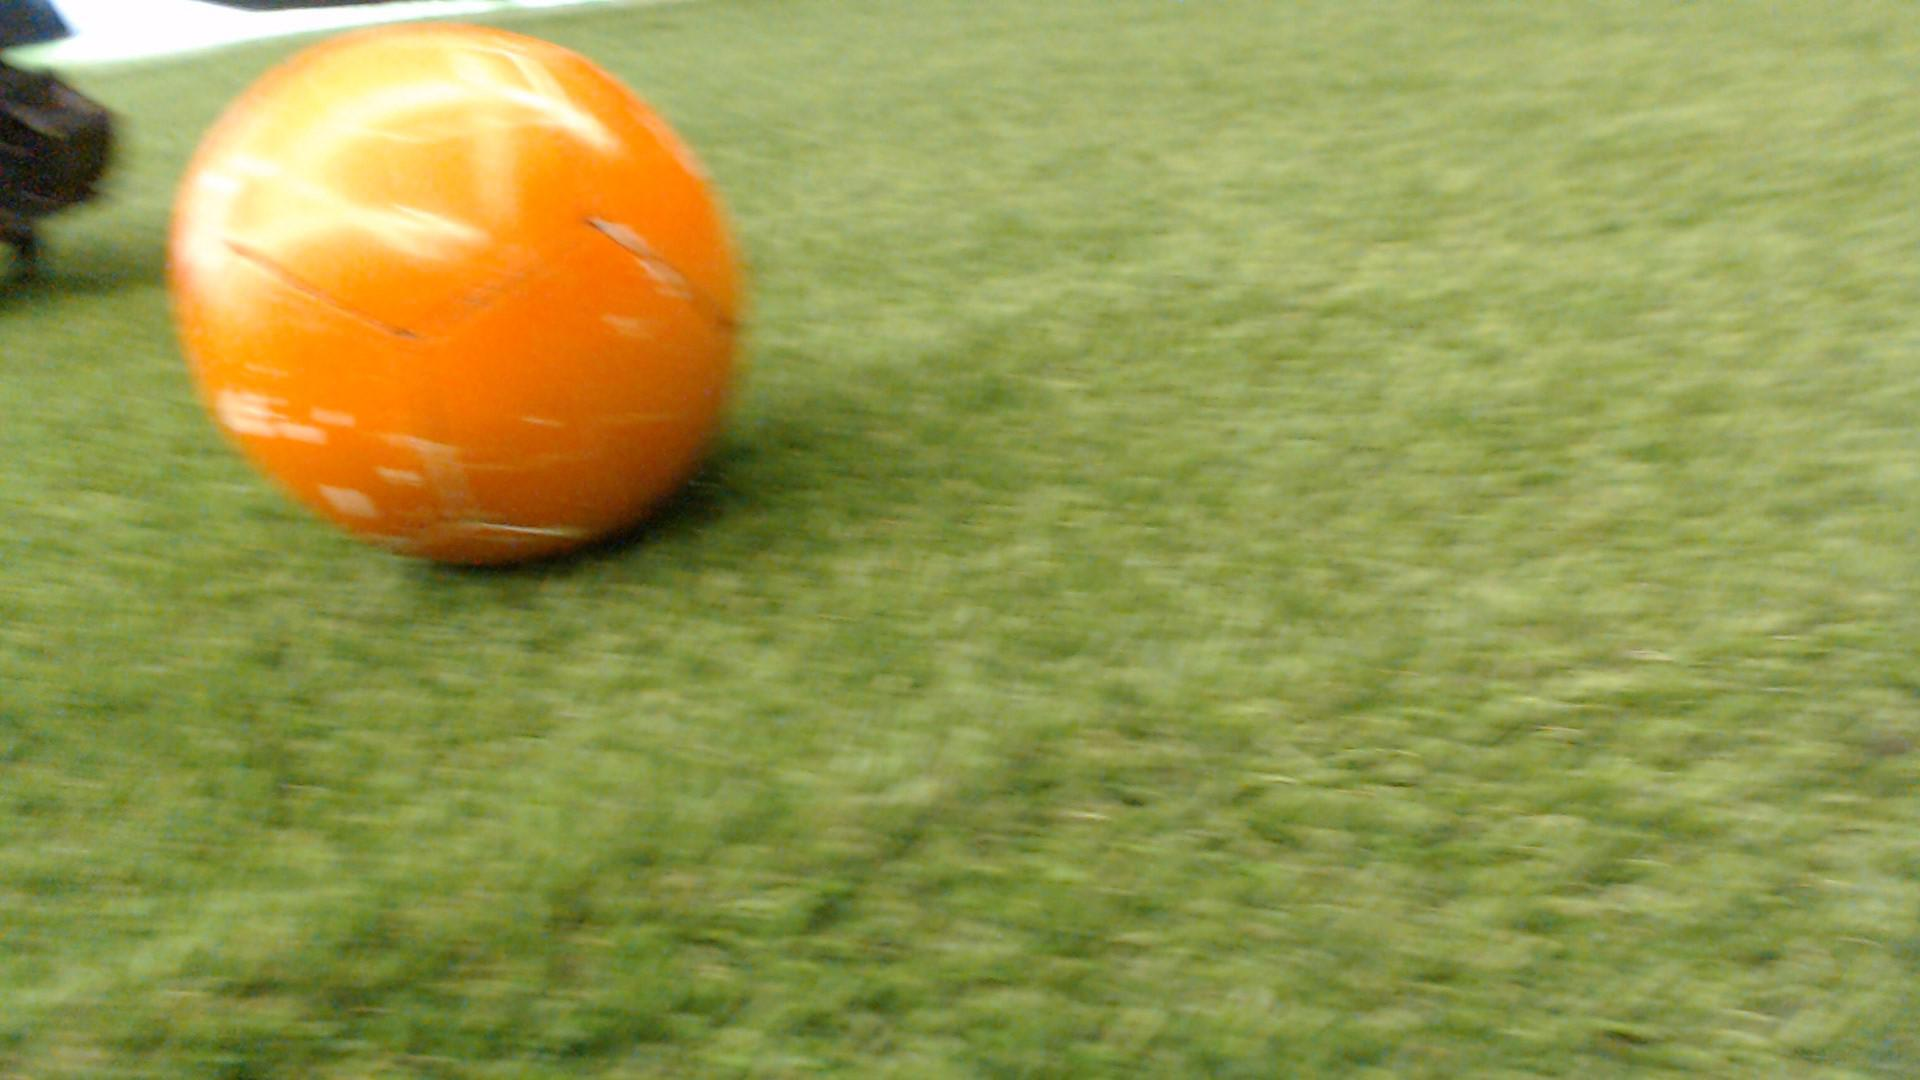bola: (172, 32, 780, 600)
